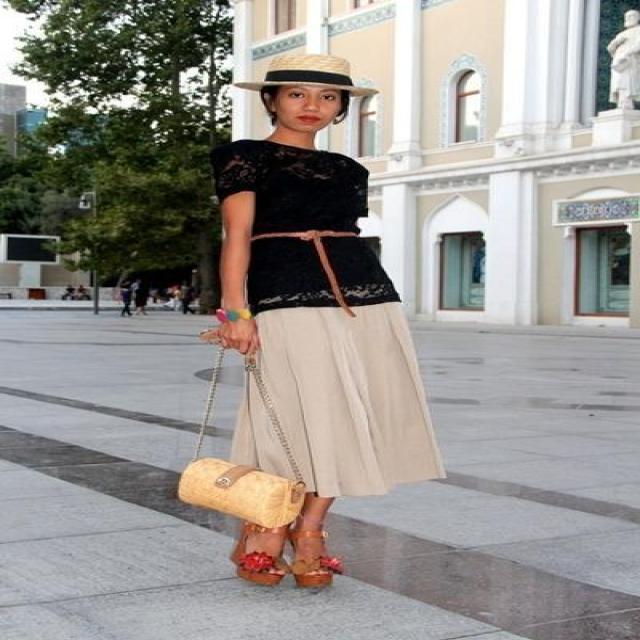bag: (179, 458, 301, 524)
hat: (250, 40, 378, 114)
shirt: (214, 140, 400, 317)
shoe: (230, 550, 341, 593)
skirt: (222, 304, 453, 497)
